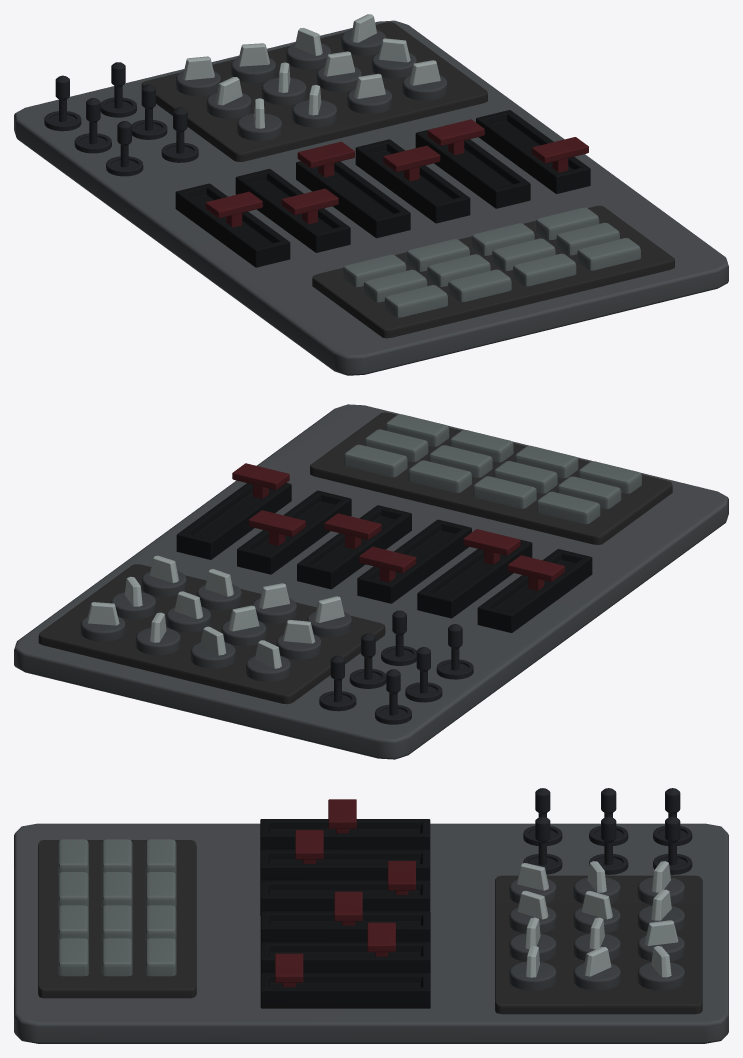
The model's file is Modulo_Riempimento_Singolo.fbx.
3 renders of one model, top to bottom at view 1: azimuth 30°, elevation 25°; view 2: azimuth 150°, elevation 25°; view 3: azimuth 270°, elevation 25°, orthographic. The views are drawn at different scales.
Visible parts, largest first — view 1: Riempimento_Singolo; view 2: Riempimento_Singolo; view 3: Riempimento_Singolo.
Part boxes in pixels (x1,y1,x2,y2): Riempimento_Singolo: (14,14,728,375); Riempimento_Singolo: (14,404,728,759); Riempimento_Singolo: (14,788,728,1043).
Bounding box in the file's own units: 20 × 3.28 × 30.
